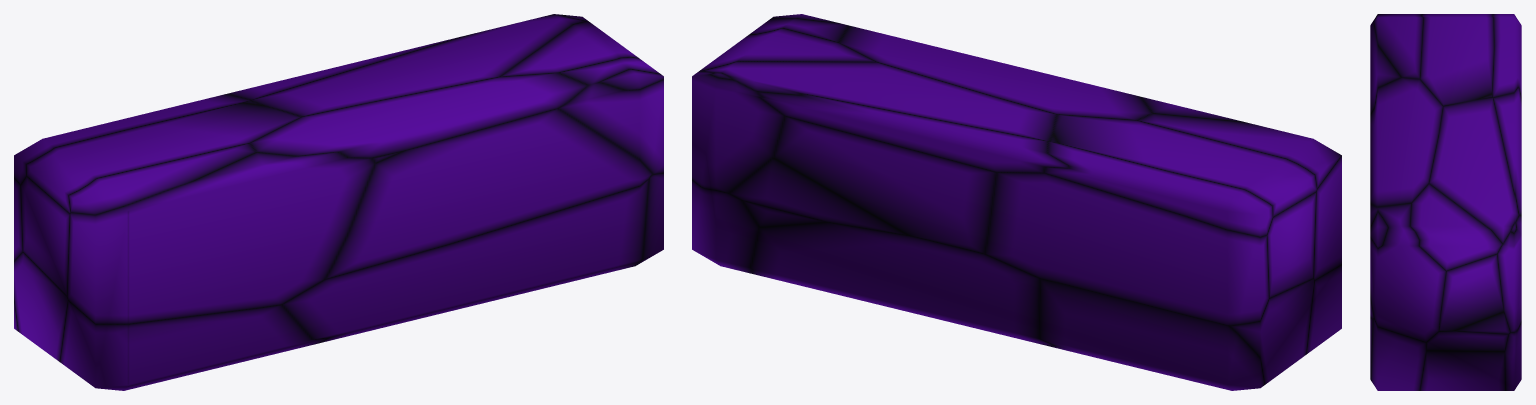
The model's file is Brick_04_1hit.obj.
3 renders of one model, left to right at view 1: azimuth 30°, elevation 25°; view 2: azimuth 150°, elevation 25°; view 3: azimuth 270°, elevation 25°, orthographic. The views are drawn at different scales.
Parts seen in each view (by area): view 1: Cube_Paddle; view 2: Cube_Paddle; view 3: Cube_Paddle.
Part boxes in pixels (bbox=[...]): Cube_Paddle: bbox=[14, 14, 663, 390]; Cube_Paddle: bbox=[692, 14, 1341, 390]; Cube_Paddle: bbox=[1370, 14, 1521, 390].
Size of the model in its own units: 7.25 by 2.34 by 2.
1 material, 1 textured.
